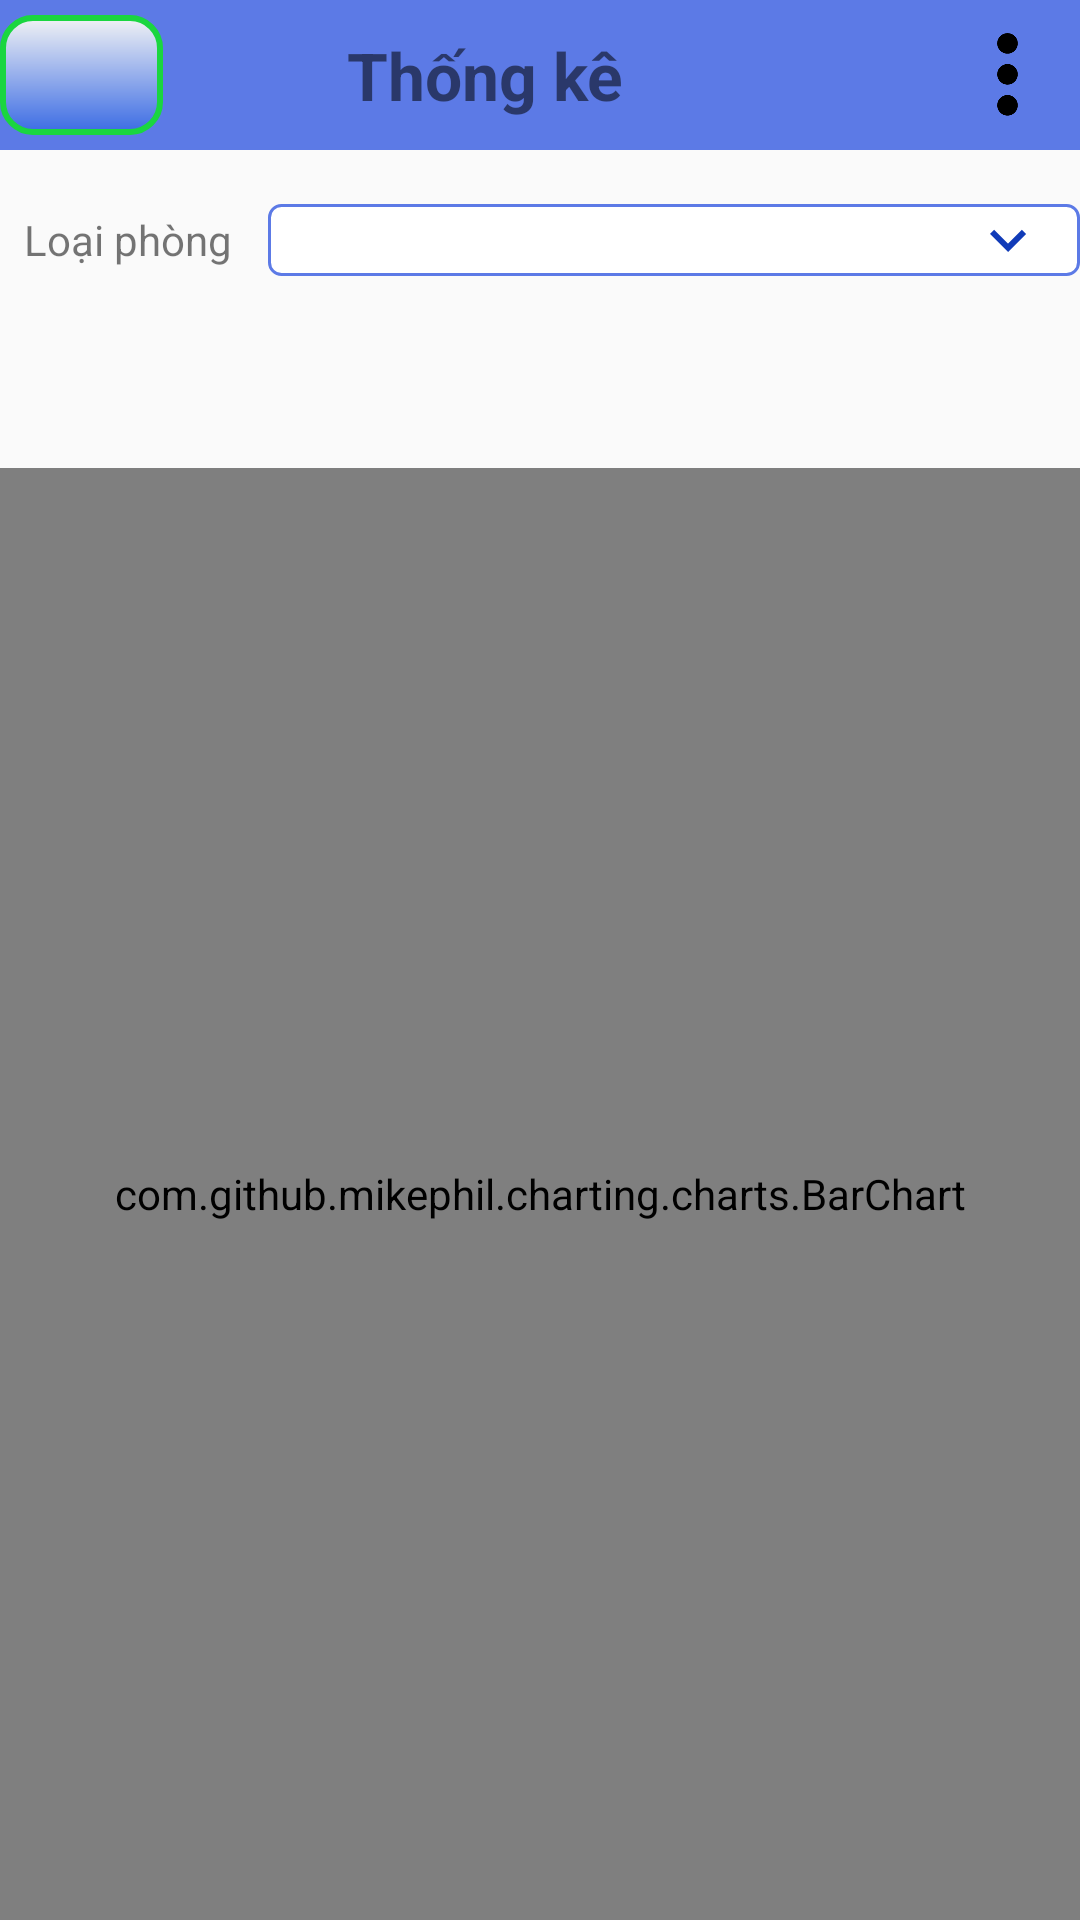

Named icons in this screenshot (1080px x 1920px) and their bounding boxes, rect(x1, y1, x2, y2):
menu: rect(997, 33, 1018, 116)
